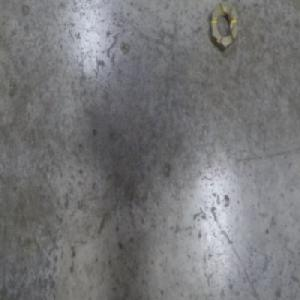Nut: (208, 0, 239, 54)
